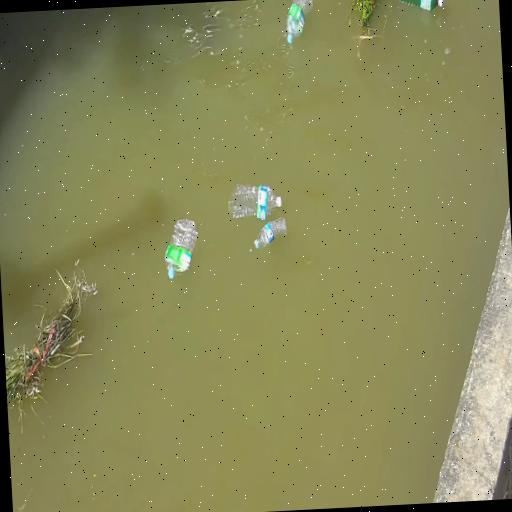plastic: (162, 214, 202, 282), (229, 180, 283, 228), (282, 0, 318, 49), (252, 217, 290, 254), (394, 0, 444, 15)
twig: (0, 273, 94, 406), (347, 0, 385, 39)
